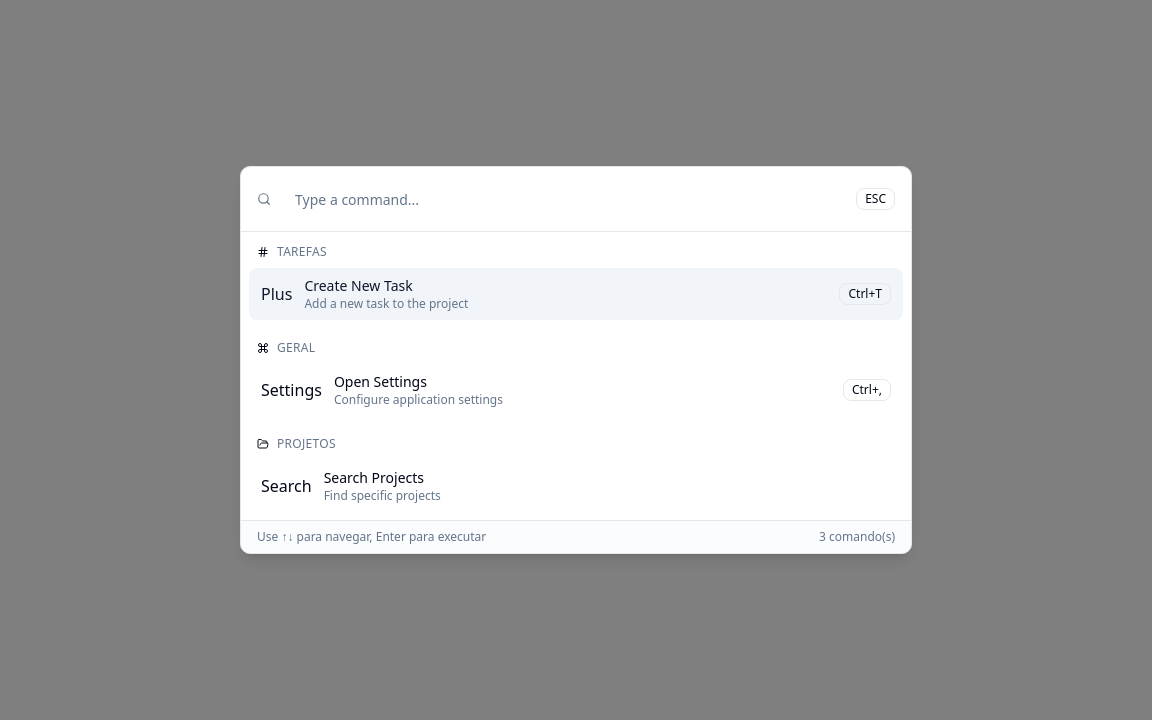
Test: CommandPalette › should handle empty search results
This screenshot has width=1152, height=720.
In the field with placeholder "Type a command...": (566, 199) x1=283 y1=179 x2=848 y2=219, type "nonexistent"
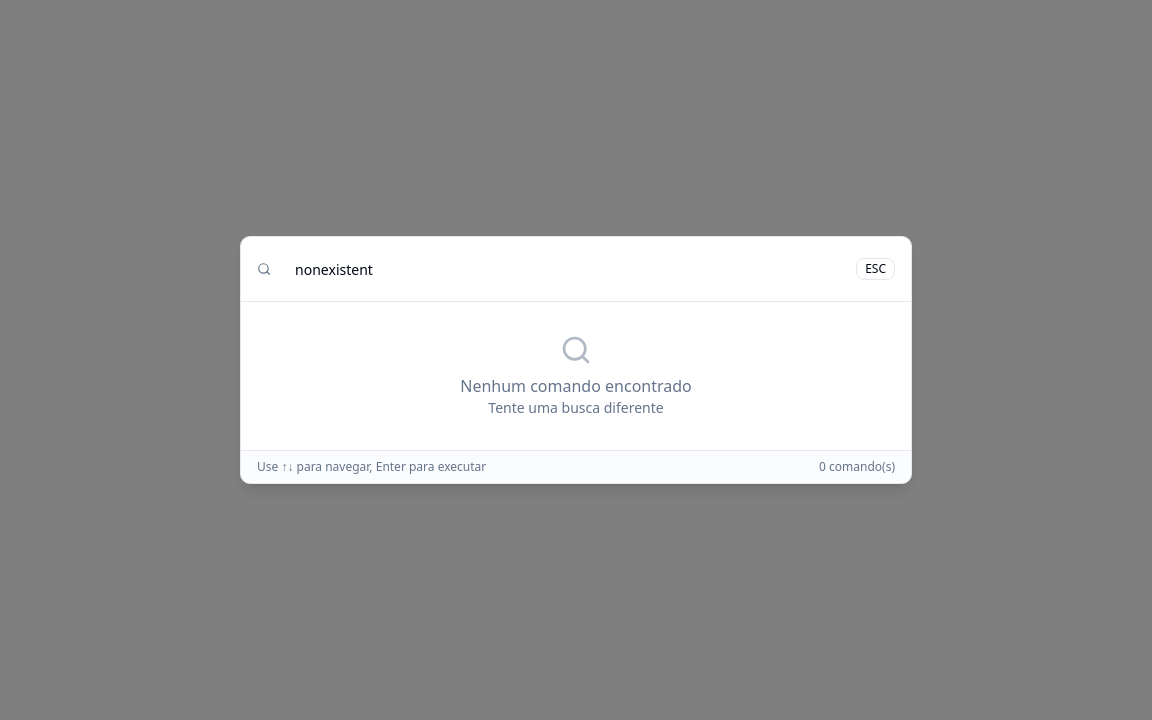
Result: the text "Create New Task" is gone
Result: the text "Open Settings" is gone
Result: the text "Search Projects" is gone
